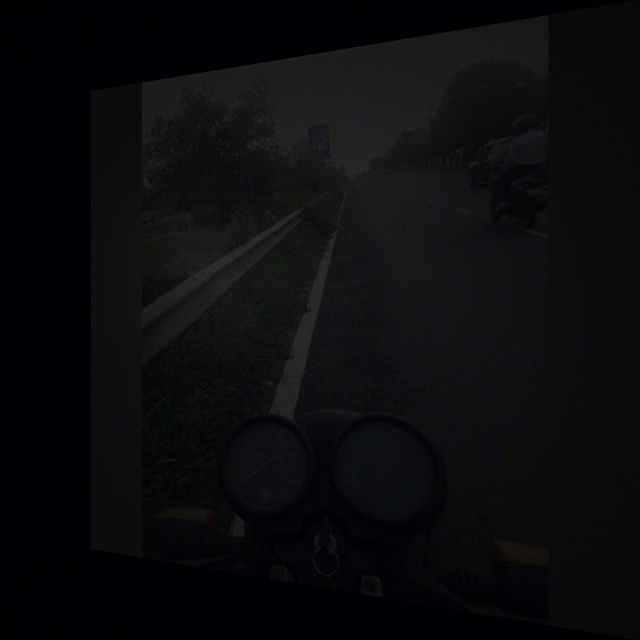U_Turn_Prohibited: (309, 126, 331, 159)
